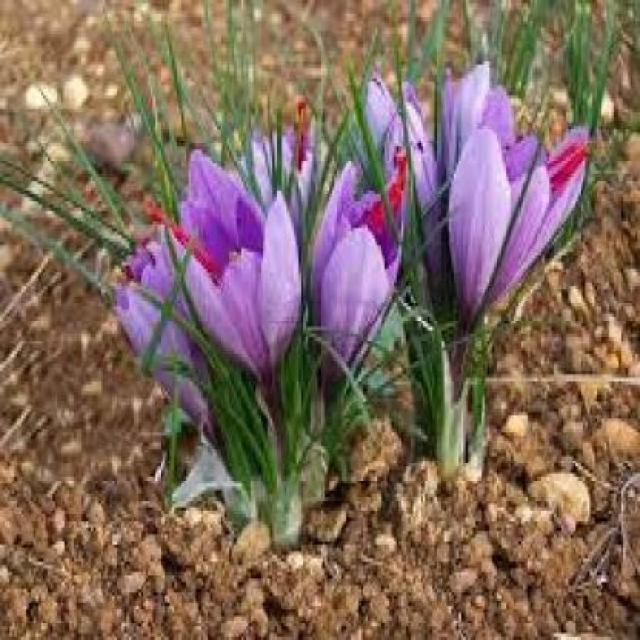Flower: (441, 66, 588, 337), (173, 145, 304, 393), (310, 150, 405, 388)
stigma: (138, 188, 226, 277), (362, 149, 412, 243), (548, 134, 591, 188)
